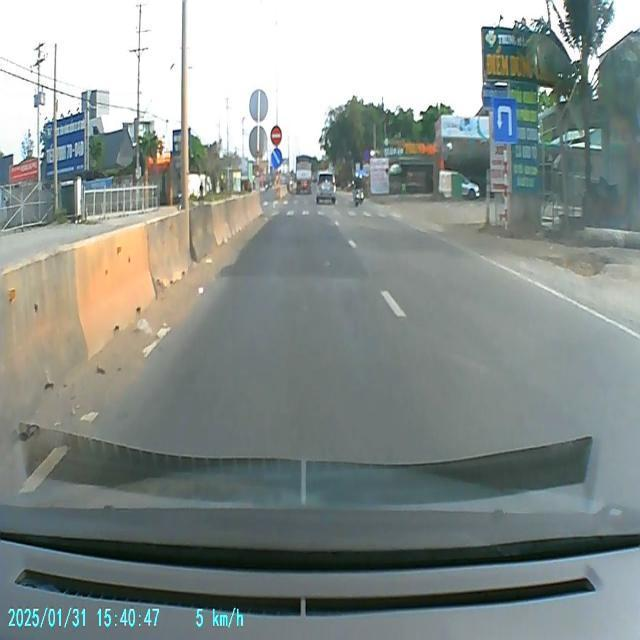102-cam-di-nguoc-chieu: (270, 124, 282, 146)
302a-huong-phai-di-vong-chuong-ngai-vat-1: (270, 146, 284, 168)
